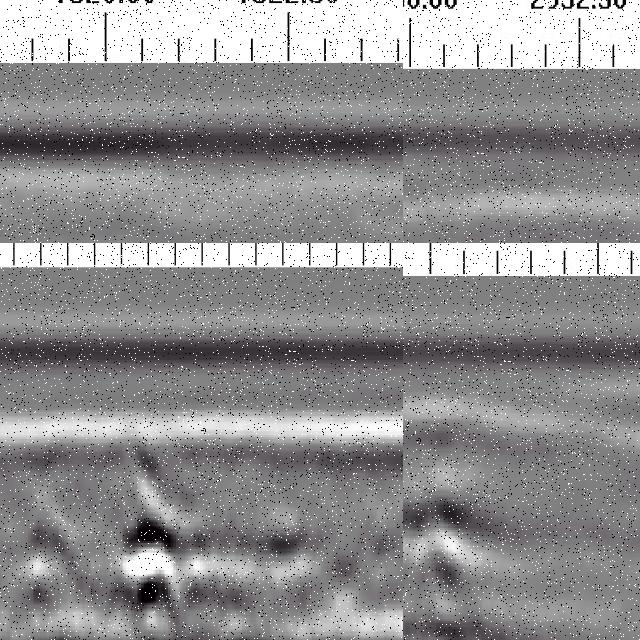loose: (404, 399, 518, 640), (116, 501, 305, 640)
